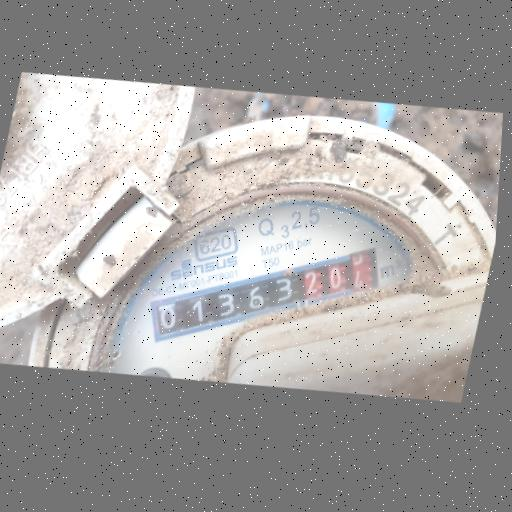0: (149, 296, 187, 338), (316, 257, 353, 298)
1: (178, 290, 216, 331)
2: (293, 262, 328, 303)
3: (263, 267, 304, 312), (205, 281, 246, 325)
4: (338, 245, 381, 298)
6: (235, 274, 275, 318)
border_water_meter_number: (138, 212, 390, 378)
